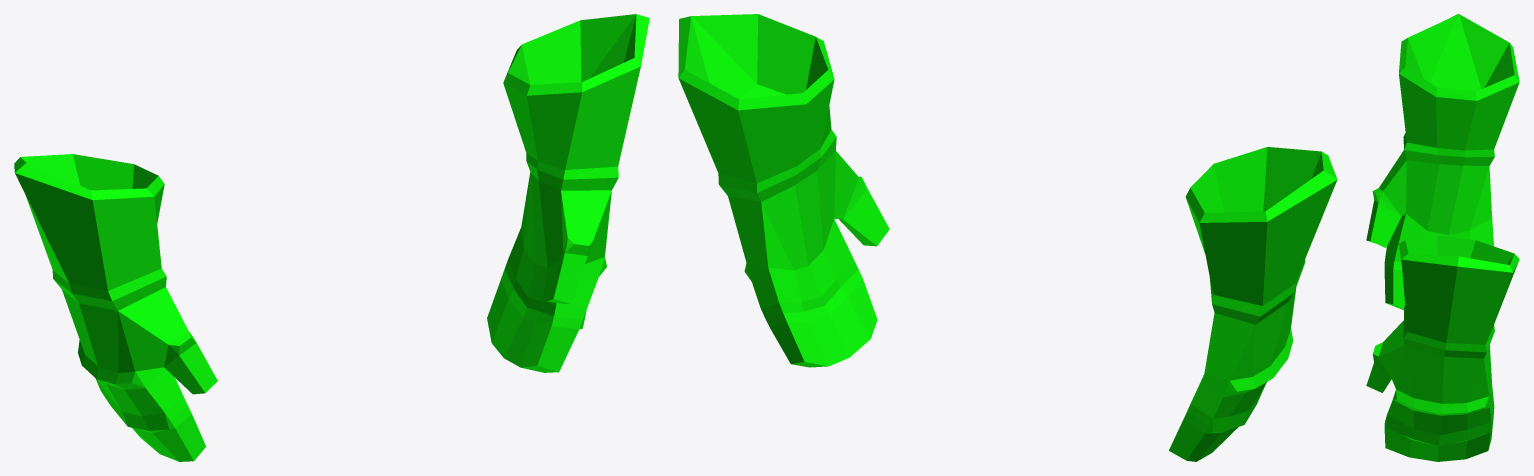
File: SM_Armor_Gloves_C_Hanging_Fantasy.fbx
The picture shows the model from 3 angles, left to right: view 1: azimuth 30°, elevation 25°; view 2: azimuth 150°, elevation 25°; view 3: azimuth 270°, elevation 25°; orthographic projection. The views are drawn at different scales.
Visible parts, largest first — view 1: armor-gloves-c-hanging-fantasy; view 2: armor-gloves-c-hanging-fantasy; view 3: armor-gloves-c-hanging-fantasy.
Boxes of the visible parts, box(x1,y1,x2,y2) form: armor-gloves-c-hanging-fantasy: box(14, 14, 649, 461); armor-gloves-c-hanging-fantasy: box(678, 14, 1337, 461); armor-gloves-c-hanging-fantasy: box(1366, 14, 1519, 461).
Size of the model in its own units: 0.708 by 0.3316 by 0.1819.
